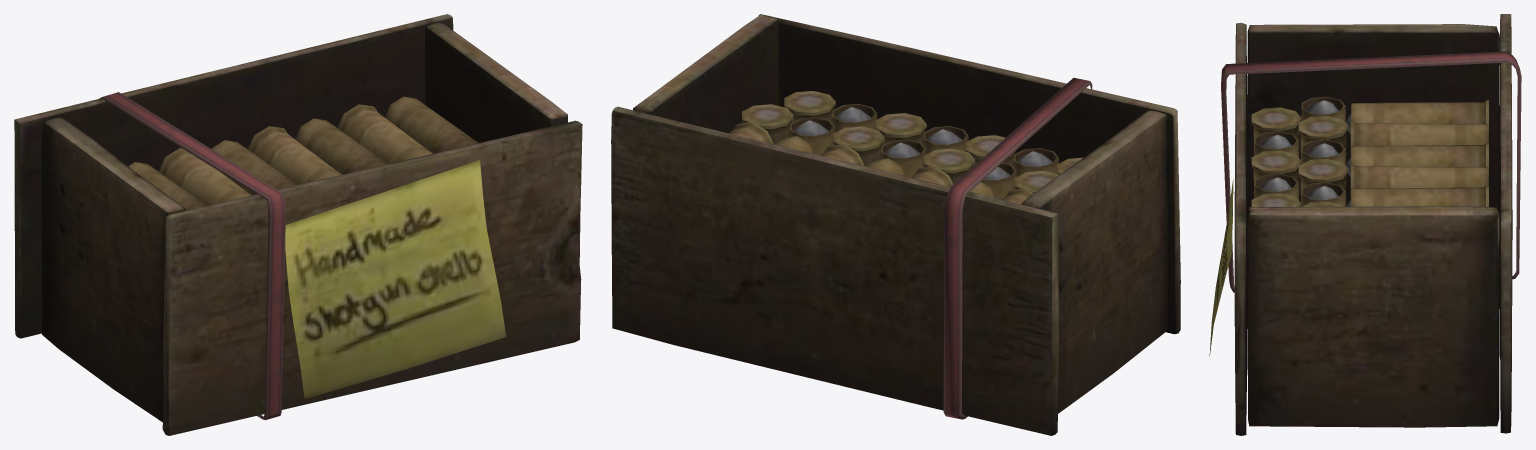
File: handmadeshotgunshellhalf.worldmodel.glb
The picture shows the model from 3 angles, left to right: view 1: azimuth 30°, elevation 25°; view 2: azimuth 150°, elevation 25°; view 3: azimuth 270°, elevation 25°; orthographic projection. The views are drawn at different scales.
Parts seen in each view (by area): view 1: HandmadeShotgunShellHalf_LOD0; view 2: HandmadeShotgunShellHalf_LOD0; view 3: HandmadeShotgunShellHalf_LOD0.
Part boxes in pixels (box(x1,y1,x2,y2)): HandmadeShotgunShellHalf_LOD0: box(14, 14, 582, 435); HandmadeShotgunShellHalf_LOD0: box(611, 14, 1180, 435); HandmadeShotgunShellHalf_LOD0: box(1209, 14, 1521, 435).
Bounding box in the file's own units: 0.246 × 0.1232 × 0.1553.
1 material, 1 textured.
